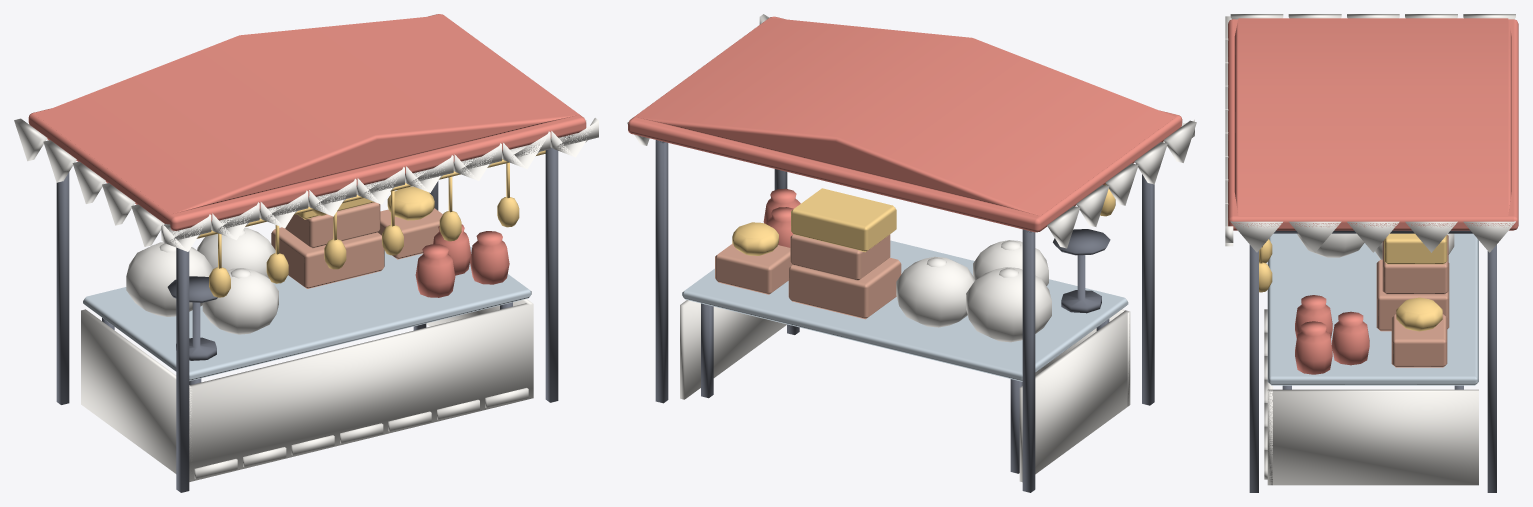
File: stall.glb
3 views of the same model, side by side, from view 1: azimuth 30°, elevation 25°; view 2: azimuth 150°, elevation 25°; view 3: azimuth 270°, elevation 25° (orthographic).
Parts seen in each view (by area): view 1: main; view 2: main; view 3: main.
Part boxes in pixels (x1,y1,x2,y2): main: (14, 14, 598, 492); main: (627, 14, 1196, 492); main: (1225, 14, 1518, 492).
Size of the model in its own units: 3.8 by 2.62 by 2.22.
